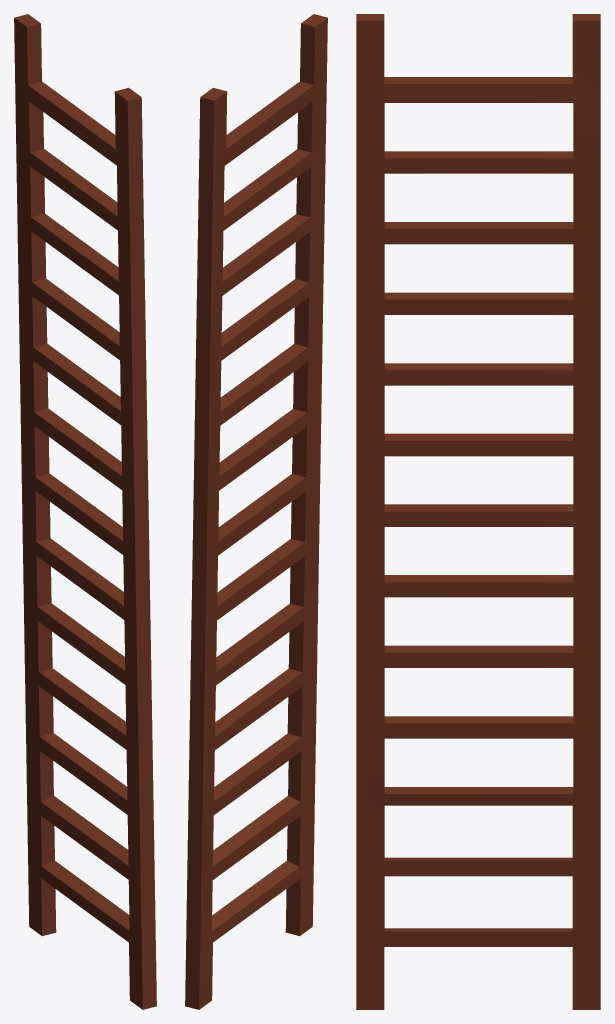
The model's file is ladder_naughty_2.FBX.
3 renders of one model, left to right at view 1: azimuth 30°, elevation 25°; view 2: azimuth 150°, elevation 25°; view 3: azimuth 270°, elevation 25°, orthographic. The views are drawn at different scales.
Visible parts, largest first — view 1: ladder_naughty_2; view 2: ladder_naughty_2; view 3: ladder_naughty_2.
Boxes of the visible parts, x1,y1,x2,y2 form: ladder_naughty_2: (14,14,156,1009); ladder_naughty_2: (185,14,327,1009); ladder_naughty_2: (356,14,600,1009).
Size of the model in its own units: 4.34 by 29.23 by 130.
